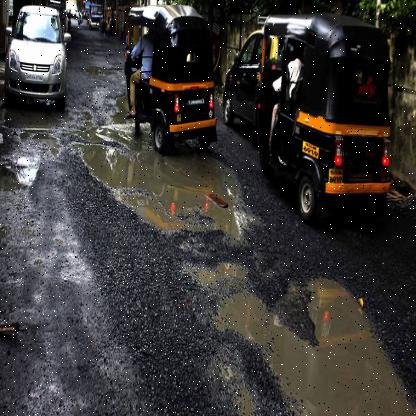pothole_water_m: (76, 110, 238, 218)
